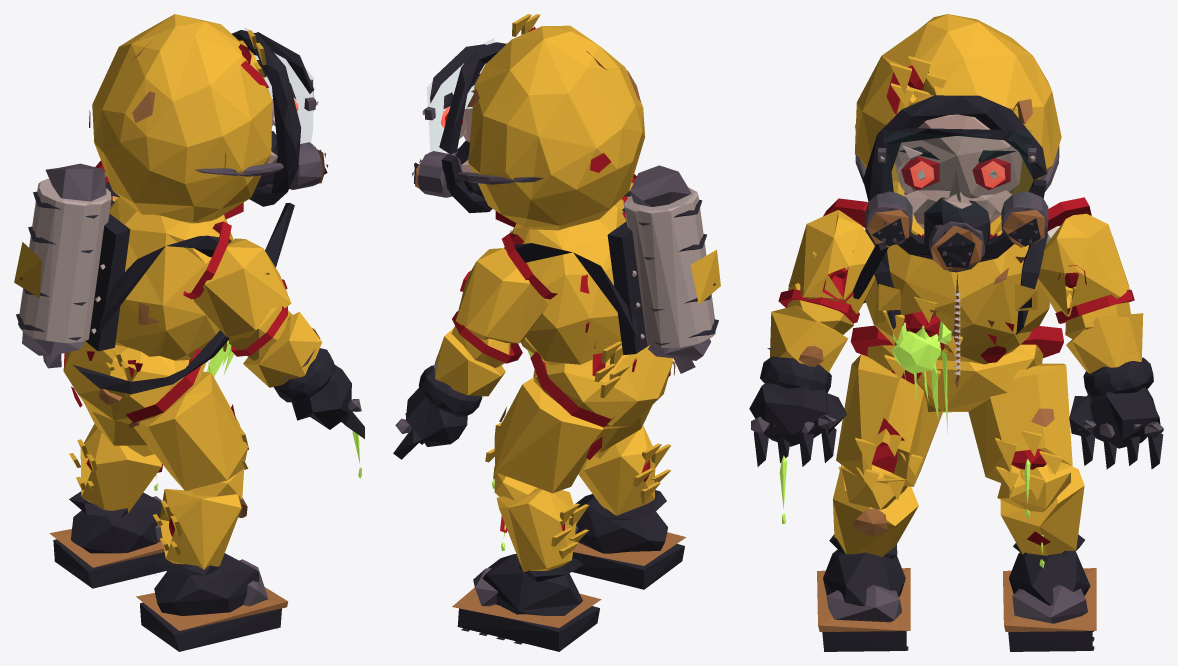
Rendered from inf.hazmat.lod1.glb.
The picture shows the model from 3 angles, left to right: view 1: azimuth 30°, elevation 25°; view 2: azimuth 150°, elevation 25°; view 3: azimuth 270°, elevation 25°; orthographic projection. The views are drawn at different scales.
Parts seen in each view (by area): view 1: head, torso, footR, legR, footL, shinR, armR, foreArmR, hip, shinL, handR, legL (+3 smaller); view 2: head, torso, footL, legL, footR, hip, shinL, armL, foreArmL, shinR, handL, stump_legL (+3 smaller); view 3: head, torso, legL, legR, footR, footL, armL, foreArmR, foreArmL, handR, shinL, armR (+9 smaller).
Part boxes in pixels (x1,y1,x2,y2): head: (89, 14, 328, 223); torso: (14, 163, 294, 394); footR: (136, 553, 288, 651); legR: (129, 371, 248, 490); footL: (49, 491, 165, 588); shinR: (153, 468, 247, 569); armR: (194, 238, 291, 337); foreArmR: (229, 305, 335, 402); hip: (63, 341, 209, 426); shinL: (69, 424, 162, 512); handR: (291, 365, 364, 478); legL: (71, 386, 147, 445); head: (412, 14, 644, 230); torso: (504, 165, 720, 373); footL: (452, 554, 601, 651); legL: (485, 377, 603, 493); footR: (572, 490, 686, 589); hip: (533, 322, 675, 429); shinL: (494, 469, 589, 571); armL: (455, 248, 548, 343); foreArmL: (418, 326, 510, 416); shinR: (578, 425, 670, 515); handL: (393, 388, 467, 459); stump_legL: (530, 351, 614, 427); head: (855, 14, 1061, 272); torso: (852, 199, 1049, 432); legL: (968, 363, 1072, 517); legR: (836, 354, 942, 500); footR: (817, 534, 910, 651); footL: (1003, 534, 1096, 651); armL: (1037, 213, 1129, 316); foreArmR: (760, 283, 853, 392); foreArmL: (1065, 286, 1153, 397); handR: (749, 382, 846, 523); shinL: (997, 464, 1084, 568); armR: (788, 210, 875, 313).
Bounding box in the file's own units: 0.8951 × 1.79 × 1.1.
